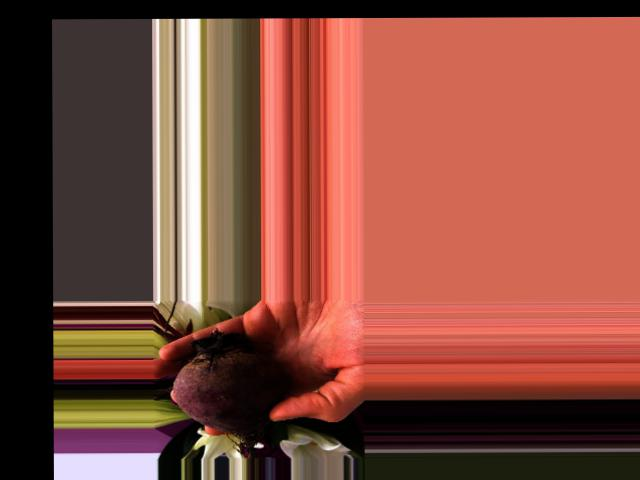beet: (171, 328, 286, 458)
